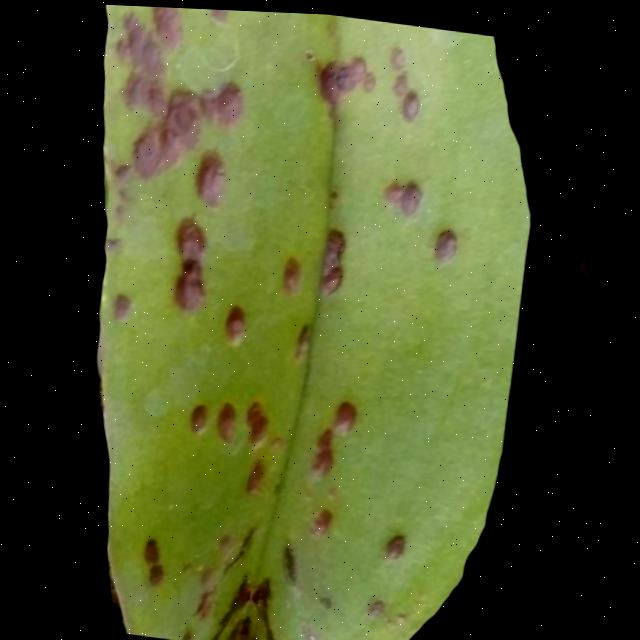mite: (136, 370, 436, 623), (137, 488, 421, 621), (186, 388, 277, 447), (379, 518, 419, 564), (216, 396, 242, 440), (334, 393, 362, 432), (282, 538, 307, 581), (189, 397, 214, 433), (386, 525, 413, 557), (312, 500, 338, 533), (398, 83, 422, 117), (145, 533, 166, 563)
spots: (25, 4, 558, 640)
